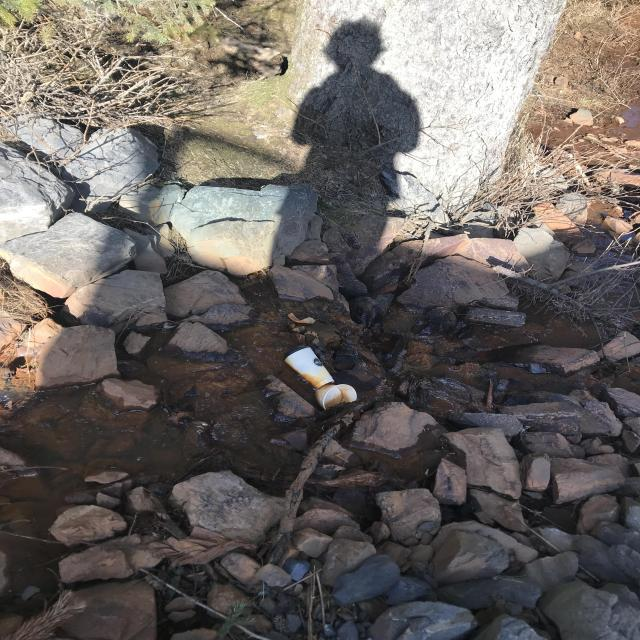litter: (463, 229, 519, 267), (512, 212, 546, 244), (460, 248, 480, 267)
